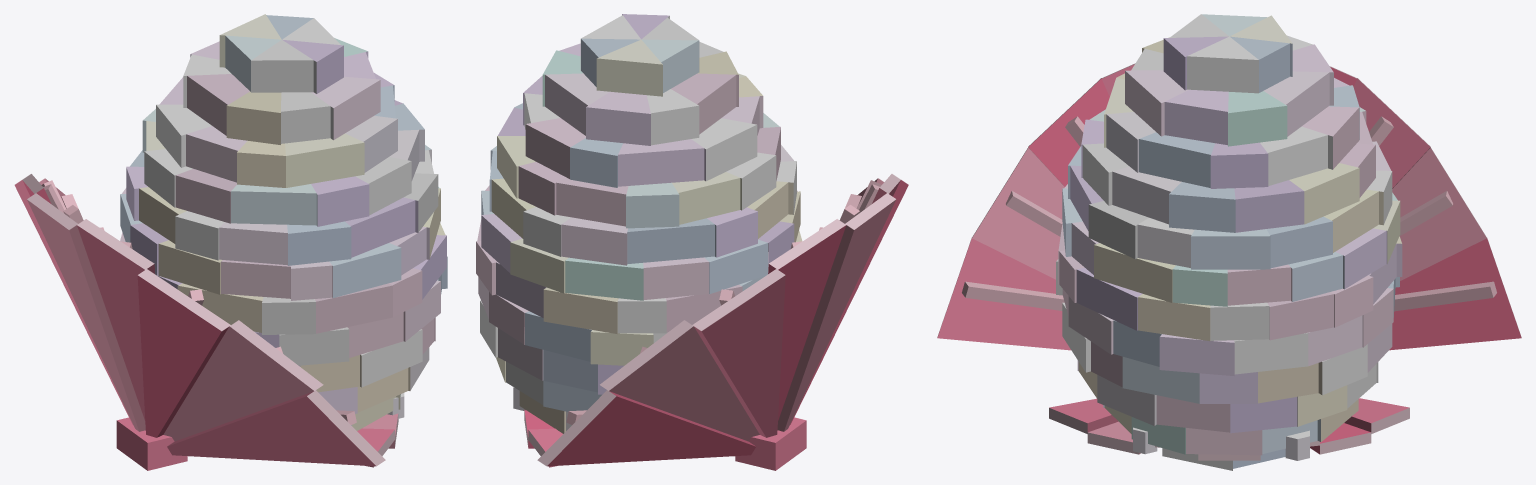
Rendered from pearl_egg.glb.
3 renders of one model, left to right at view 1: azimuth 30°, elevation 25°; view 2: azimuth 150°, elevation 25°; view 3: azimuth 270°, elevation 25°, orthographic. The views are drawn at different scales.
Parts seen in each view (by area): view 1: pearl_egg; view 2: pearl_egg; view 3: pearl_egg.
Boxes of the visible parts, x1,y1,x2,y2 form: pearl_egg: (14, 14, 447, 470); pearl_egg: (476, 14, 908, 470); pearl_egg: (937, 14, 1521, 470).
Bounding box in the file's own units: 1.13 × 1.1 × 1.46.
